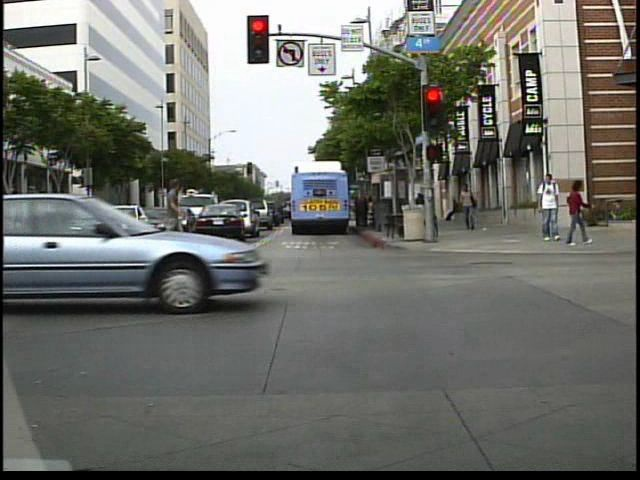person: (152, 177, 191, 240), (561, 176, 593, 247)
